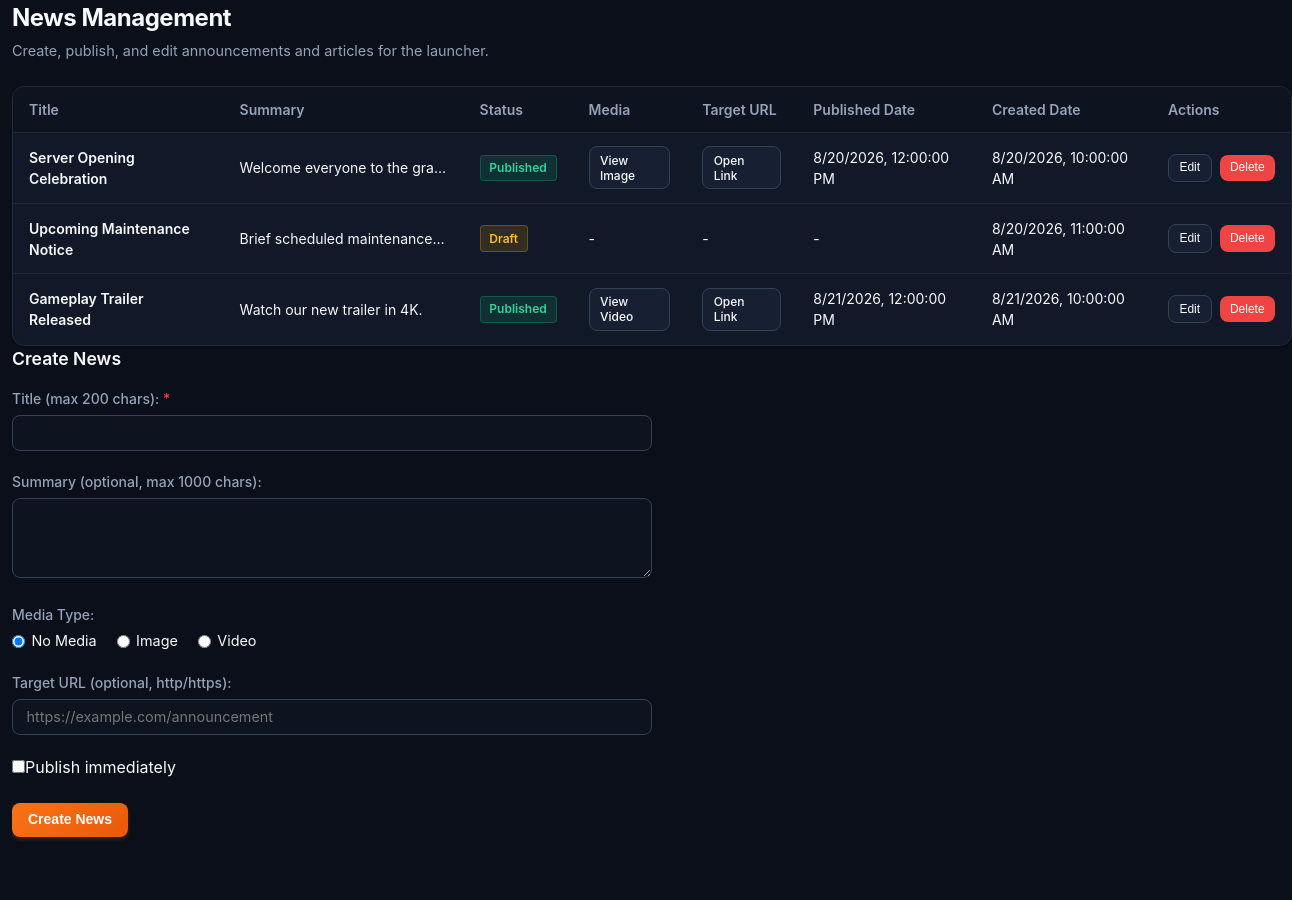
News UI Functional Tests › 11. Clicking Edit loads news data into form, changes heading and button labels
Click the button with aria-label "Edit Server Opening Celebration": click(1190, 168) [1168, 154, 1212, 182]
(page scrolled)
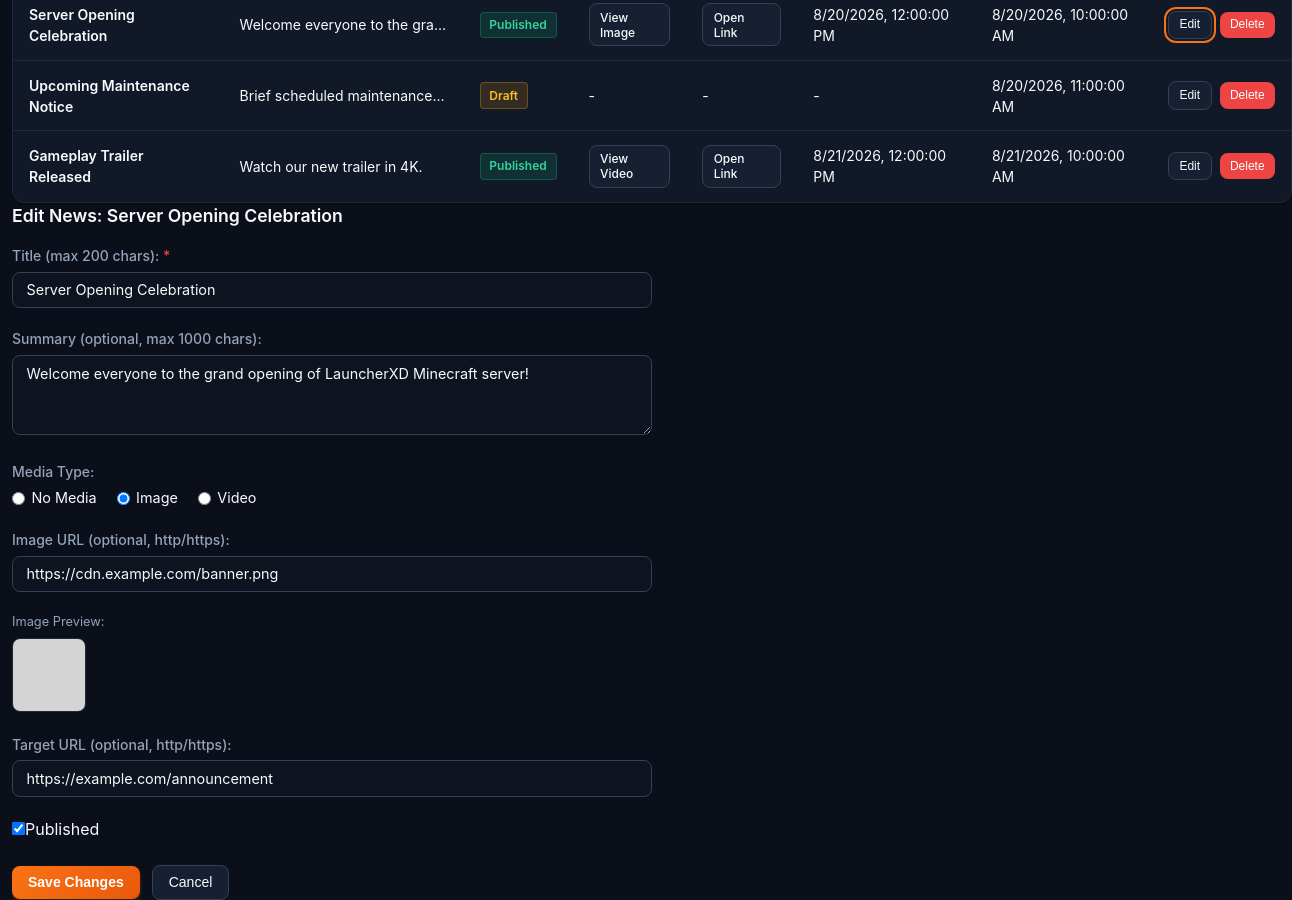
Result: the heading "Edit News: Server Opening Celebration" is shown at [12, 202, 343, 229]
Result: the field labelled "Title (max 200 chars): *" holds "Server Opening Celebration" at [12, 272, 652, 308]
Result: the text box labelled "Summary (optional, max 1000 chars):" holds "Welcome everyone to the grand opening of LauncherXD Minecraft server!" at [12, 355, 652, 435]
